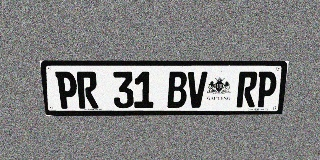1: (134, 71, 153, 108)
3: (113, 71, 133, 108)
B: (167, 71, 187, 108)
P: (55, 71, 78, 109), (255, 71, 278, 107)
R: (76, 71, 99, 109), (236, 71, 258, 107)
V: (187, 71, 207, 108)
